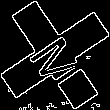M_NE: (21, 22, 89, 88)
